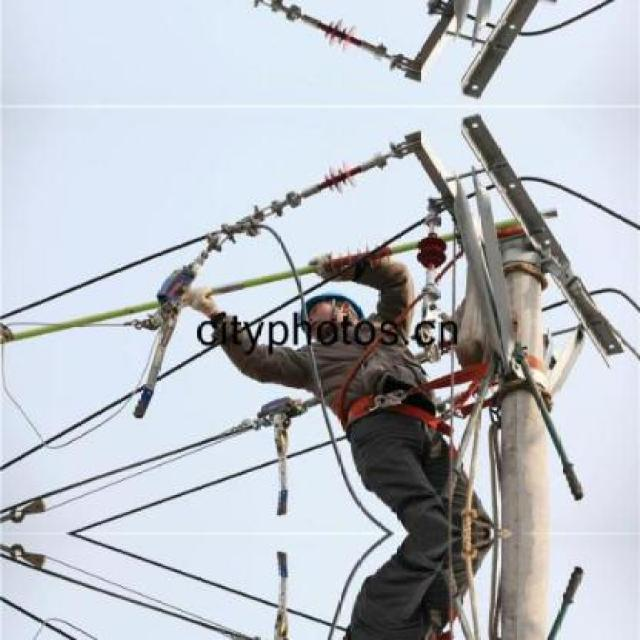helmet: (302, 282, 378, 349)
